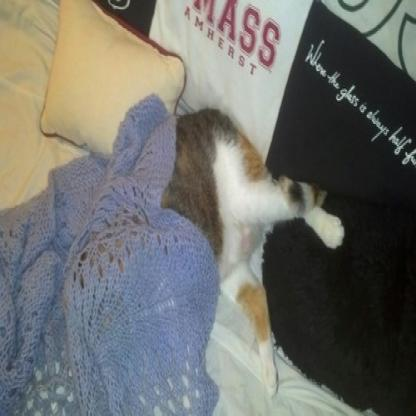Target: (75, 99, 350, 401)
